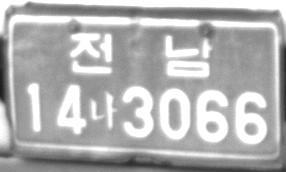0: (158, 87, 191, 141)
1: (21, 82, 49, 132)
3: (121, 84, 154, 138)
4: (55, 83, 87, 135)
6: (195, 87, 229, 144), (234, 90, 268, 146)
나: (90, 90, 117, 129)
전남_D: (69, 31, 212, 78)
